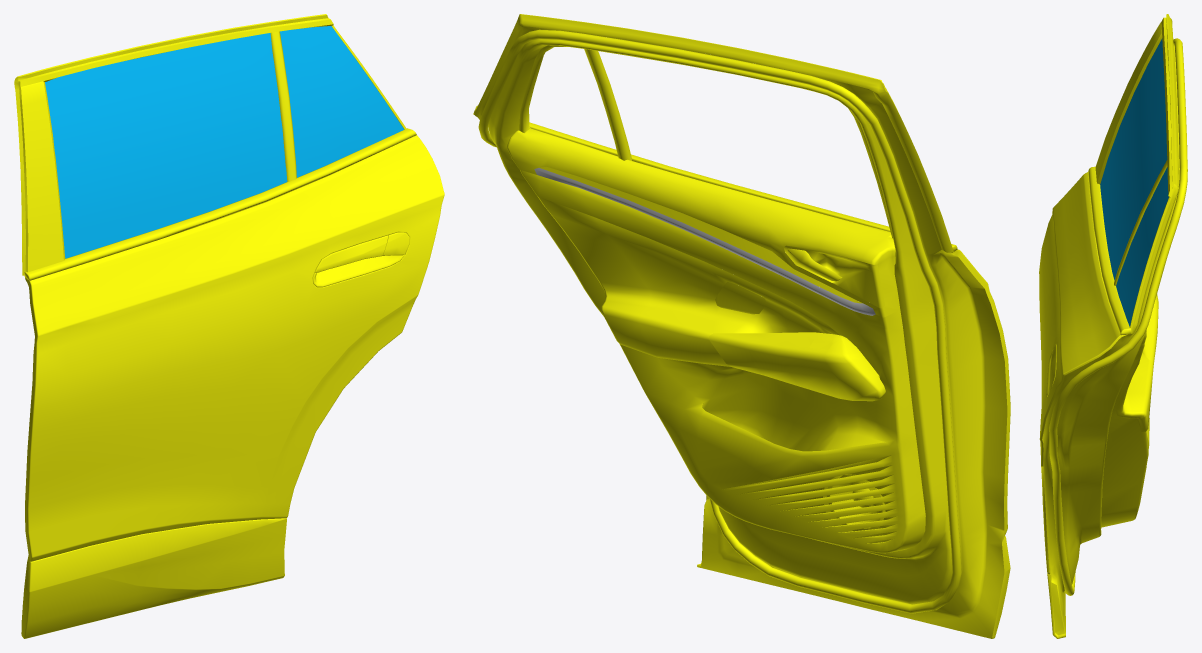
The model's file is Men_ZuoHou.glb.
3 renders of one model, left to right at view 1: azimuth 30°, elevation 25°; view 2: azimuth 150°, elevation 25°; view 3: azimuth 270°, elevation 25°, orthographic. The views are drawn at different scales.
Parts seen in each view (by area): view 1: 对象042, Material__298, Material #1173, Material #1174, 对象028, 对象073, 对象021; view 2: WaiKe9, WaiKe14, CheMen6, WaiKe8, Material #1174, 车门1, 对象076, CheMen5, 对象073, 对象042, 贴图4; view 3: WaiKe14, 对象042, Material__298, WaiKe8, WaiKe9, Material #1174, 对象073, CheMen6, 对象028, 车门1, Material #1173, 对象021.
Part boxes in pixels (x1,y1,x2,y2): 对象042: [25, 135, 444, 562]; Material__298: [45, 26, 404, 258]; Material #1173: [21, 518, 286, 638]; Material #1174: [14, 14, 406, 275]; 对象028: [19, 81, 65, 272]; 对象073: [24, 128, 416, 280]; 对象021: [314, 232, 409, 272]; WaiKe9: [506, 128, 925, 553]; WaiKe14: [481, 26, 1007, 638]; CheMen6: [537, 196, 839, 366]; WaiKe8: [478, 29, 961, 613]; Material #1174: [474, 14, 953, 531]; 车门1: [709, 245, 885, 401]; 对象076: [539, 166, 862, 303]; CheMen5: [534, 168, 875, 315]; 对象073: [473, 105, 957, 252]; 对象042: [950, 249, 1010, 541]; 贴图4: [715, 281, 832, 349]; WaiKe14: [1042, 46, 1179, 637]; 对象042: [1039, 172, 1127, 574]; Material__298: [1100, 38, 1168, 326]; WaiKe8: [1049, 38, 1187, 595]; WaiKe9: [1101, 330, 1149, 527]; Material #1174: [1114, 14, 1178, 333]; 对象073: [1088, 166, 1131, 335]; CheMen6: [1116, 353, 1153, 431]; 对象028: [1095, 22, 1162, 184]; 车门1: [1142, 294, 1158, 364]; Material #1173: [1042, 486, 1065, 638]; 对象021: [1048, 344, 1056, 394].
Bounding box in the file's own units: 1.11 × 1.26 × 0.3259.
Materials: 4 (2 with a texture image).
